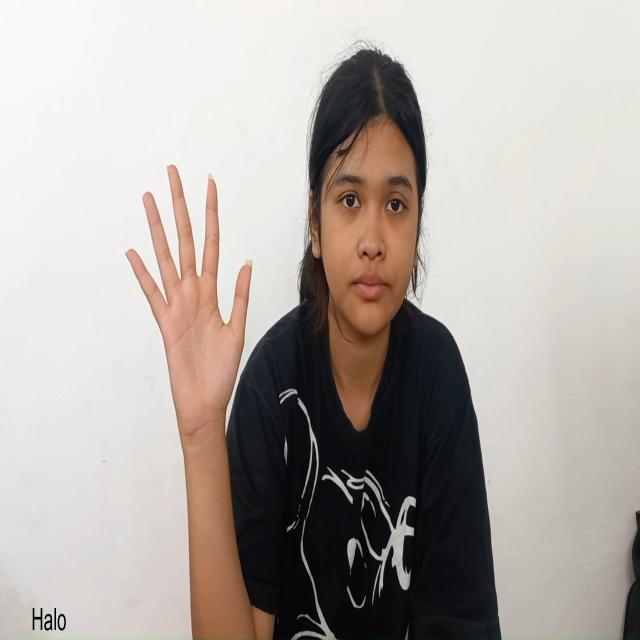Halo -BISINDO-: (111, 144, 258, 458)
